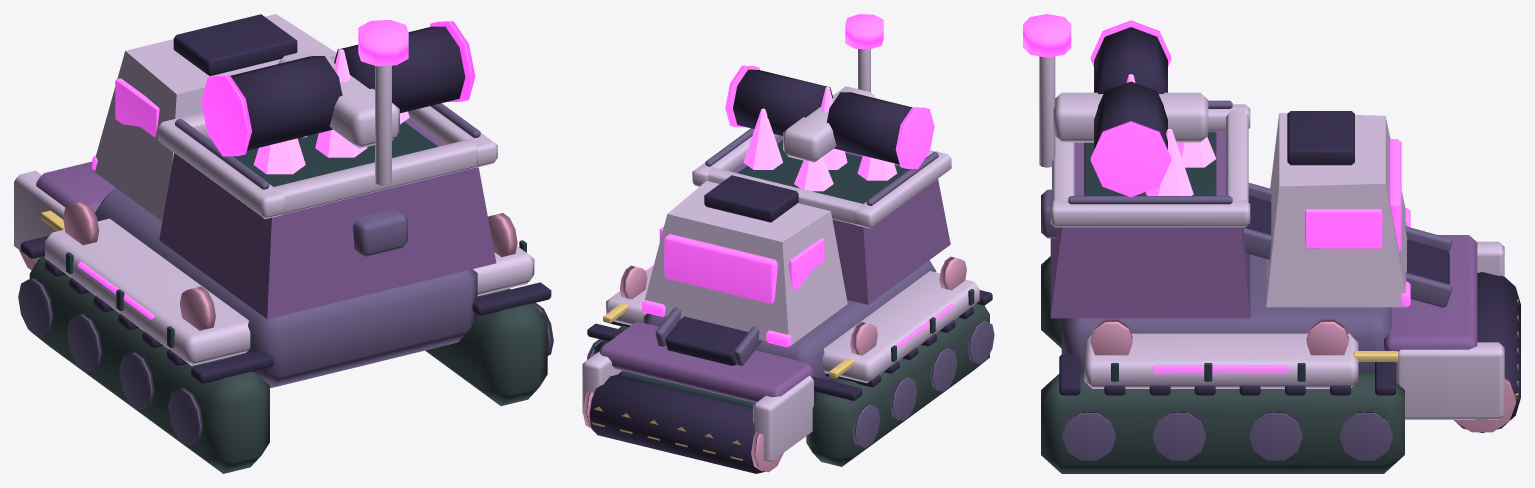
Rendered from vesper-harvester.glb.
3 renders of one model, left to right at view 1: azimuth 30°, elevation 25°; view 2: azimuth 150°, elevation 25°; view 3: azimuth 270°, elevation 25°, orthographic. The views are drawn at different scales.
Visible parts, largest first — view 1: Track shoulder guard, Tapered cargo hopper, Track drive hub, Industrial tread cleat, Industrial track, Vesper separator end ring, Guard joint, Cutter end hub, Loaded crystal shard, Panoramic cab windscreen; view 2: Track shoulder guard, Industrial tread cleat, Tapered cargo hopper, Track drive hub, Industrial track, Panoramic cab windscreen, Vesper separator end ring, Guard joint, Loaded crystal shard, Cutter end hub, Drum cutting tooth; view 3: Track shoulder guard, Tapered cargo hopper, Industrial track, Track drive hub, Industrial tread cleat, Vesper separator end ring, Panoramic cab windscreen, Cutter end hub, Guard joint, Loaded crystal shard, Drum cutting tooth.
Boxes of the visible parts, x1=… form: Track shoulder guard: x1=14, y1=14, x2=534, y2=365; Tapered cargo hopper: x1=36, y1=118, x2=496, y2=319; Track drive hub: x1=18, y1=103, x2=553, y2=445; Industrial tread cleat: x1=20, y1=14, x2=551, y2=383; Industrial track: x1=29, y1=256, x2=547, y2=473; Vesper separator end ring: x1=78, y1=20, x2=475, y2=319; Guard joint: x1=66, y1=121, x2=526, y2=347; Cutter end hub: x1=19, y1=201, x2=517, y2=330; Loaded crystal shard: x1=253, y1=49, x2=409, y2=174; Panoramic cab windscreen: x1=115, y1=78, x2=159, y2=137; Track shoulder guard: x1=582, y1=49, x2=979, y2=462; Industrial tread cleat: x1=587, y1=69, x2=992, y2=473; Tapered cargo hopper: x1=599, y1=135, x2=950, y2=402; Track drive hub: x1=587, y1=128, x2=994, y2=448; Industrial track: x1=594, y1=304, x2=989, y2=466; Panoramic cab windscreen: x1=659, y1=226, x2=824, y2=303; Vesper separator end ring: x1=642, y1=14, x2=953, y2=347; Guard joint: x1=618, y1=140, x2=974, y2=407; Loaded crystal shard: x1=743, y1=87, x2=897, y2=191; Cutter end hub: x1=583, y1=256, x2=966, y2=472; Drum cutting tooth: x1=589, y1=303, x2=854, y2=460; Track shoulder guard: x1=1039, y1=56, x2=1504, y2=420; Tapered cargo hopper: x1=1050, y1=130, x2=1477, y2=351; Industrial track: x1=1041, y1=256, x2=1404, y2=473; Track drive hub: x1=1041, y1=100, x2=1451, y2=460; Industrial tread cleat: x1=1059, y1=27, x2=1520, y2=433; Vesper separator end ring: x1=1023, y1=14, x2=1410, y2=374; Panoramic cab windscreen: x1=1305, y1=139, x2=1401, y2=251; Cutter end hub: x1=1090, y1=319, x2=1515, y2=432; Guard joint: x1=1084, y1=132, x2=1305, y2=381; Loaded crystal shard: x1=1126, y1=74, x2=1216, y2=195; Drum cutting tooth: x1=1353, y1=299, x2=1518, y2=399.
Bounding box in the file's own units: 1.18 × 1.3 × 1.54.
